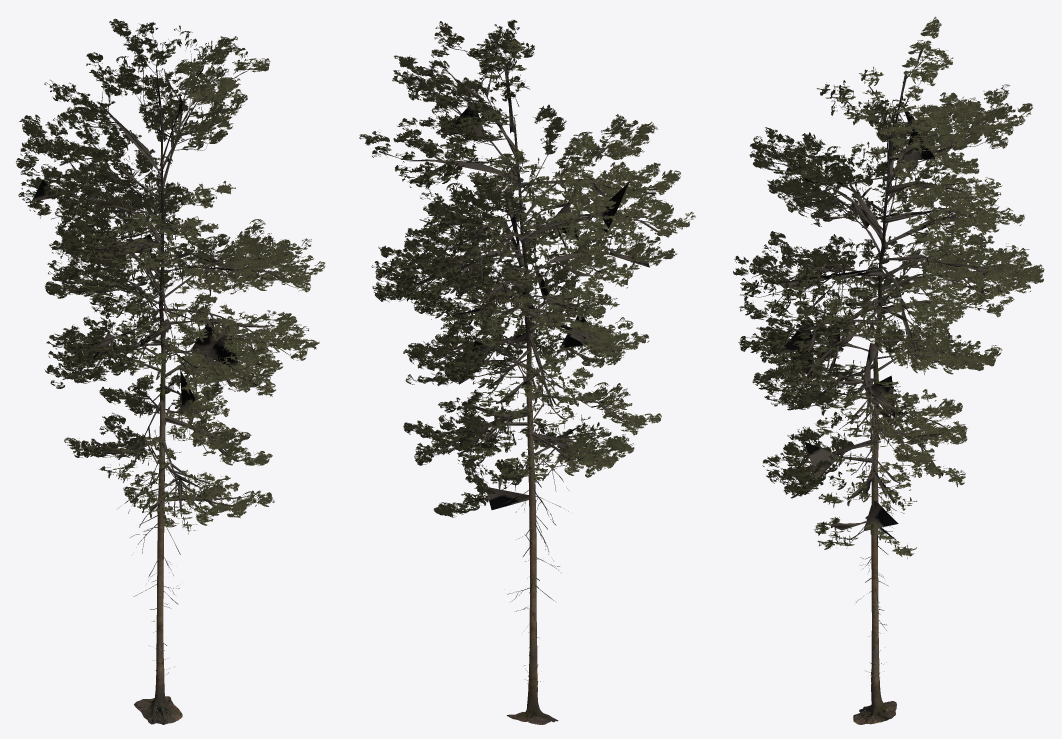
File: scots_pine_a.glb
3 renders of one model, left to right at view 1: azimuth 30°, elevation 25°; view 2: azimuth 150°, elevation 25°; view 3: azimuth 270°, elevation 25°, orthographic. The views are drawn at different scales.
Visible parts, largest first — view 1: scots_pine_a_LOD0; view 2: scots_pine_a_LOD0; view 3: scots_pine_a_LOD0.
Part boxes in pixels (bbox=[...]): scots_pine_a_LOD0: bbox=[16, 18, 325, 724]; scots_pine_a_LOD0: bbox=[359, 20, 695, 724]; scots_pine_a_LOD0: bbox=[733, 16, 1044, 724].
Size of what is drawn, in the model's own units: 8.01 by 20.47 by 8.55.
2 materials, 2 textured.
